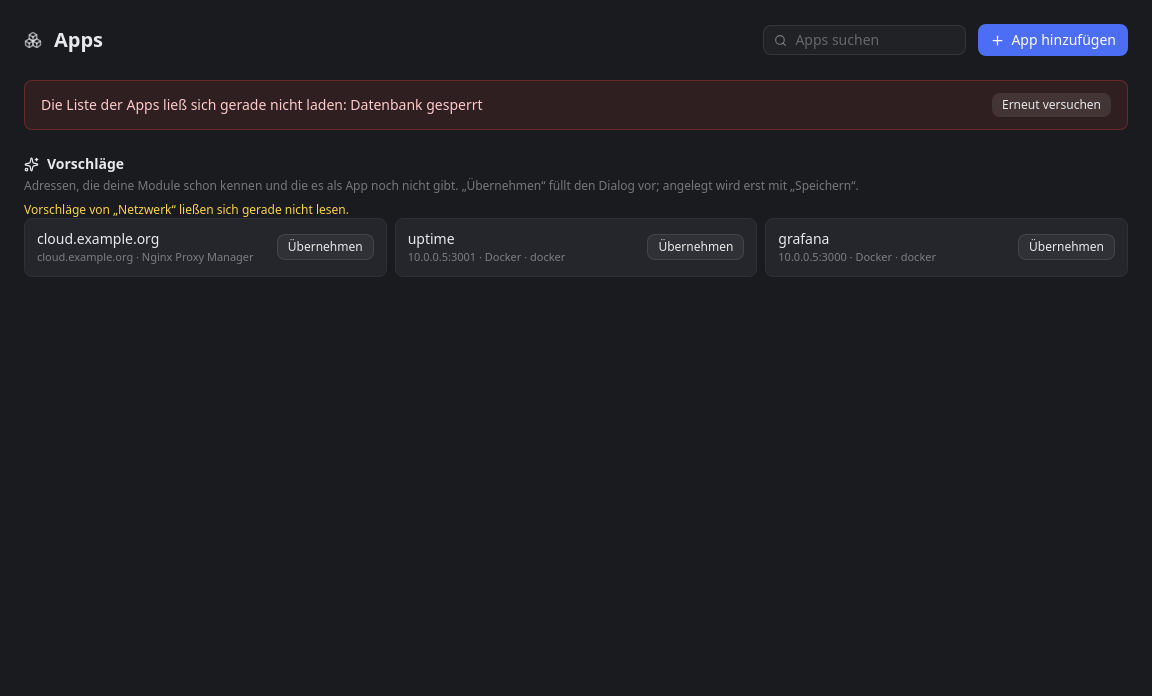
Test: Ladefehler › Übersicht kommt nicht an: der Grund statt „Noch keine Apps“, „Erneut versuchen“ lädt nach
The image size is (1152, 696).
Expected: the message with test id "load-error" shows "Die Liste der Apps ließ sich gerade nicht laden: Datenbank gesperrt", [41, 95, 483, 114]
Click the button "Erneut versuchen" at x=1052, y=105, box [992, 93, 1111, 117]
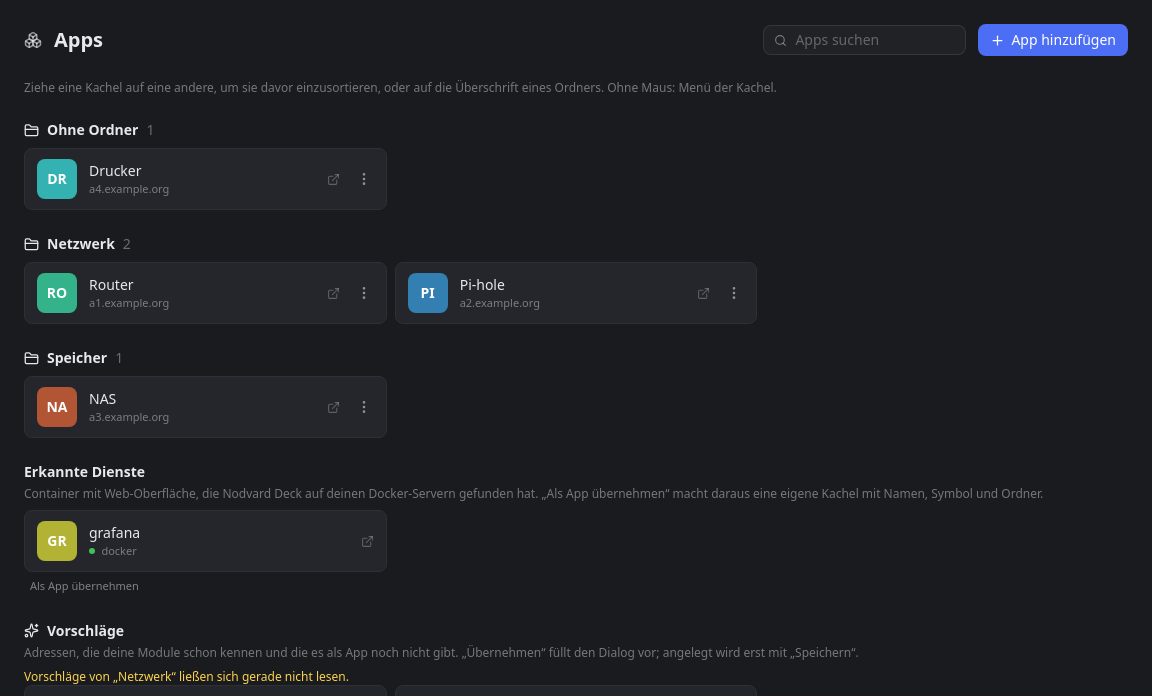
Now the element with test id "folder-Netzwerk" is shown, box [24, 234, 757, 324]
Now the message with test id "load-error" is gone
